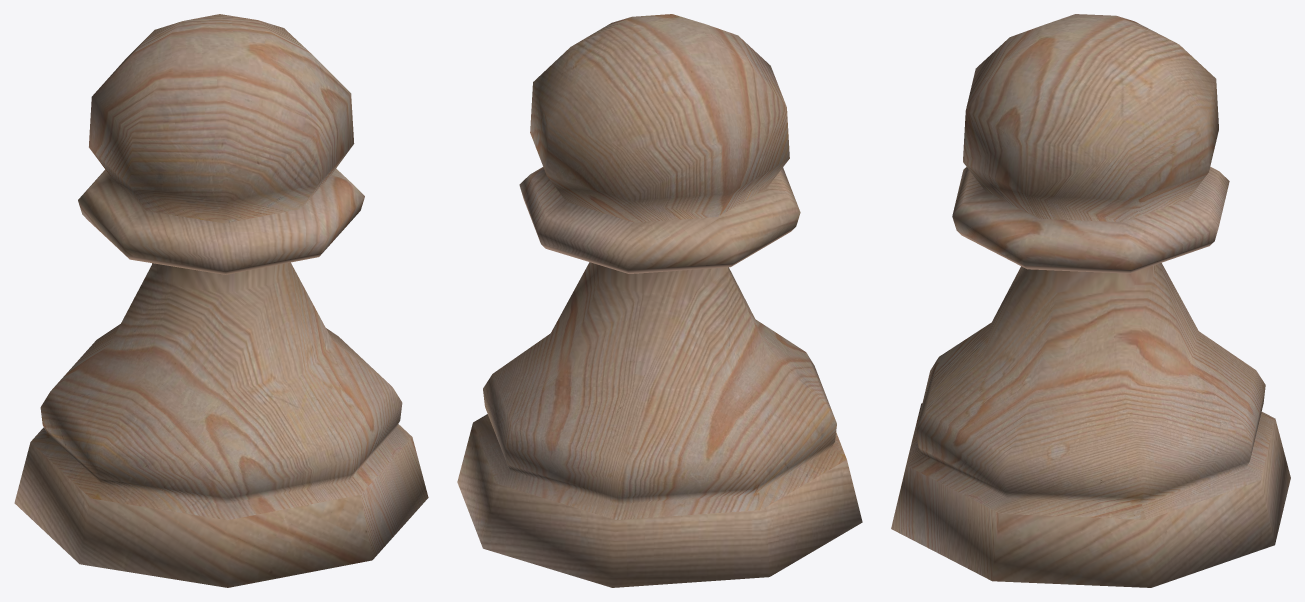
3 renders of one model, left to right at view 1: azimuth 30°, elevation 25°; view 2: azimuth 150°, elevation 25°; view 3: azimuth 270°, elevation 25°, orthographic.
Parts seen in each view (by area): view 1: WhitePawn.005; view 2: WhitePawn.005; view 3: WhitePawn.005.
Boxes of the visible parts, x1,y1,x2,y2 form: WhitePawn.005: (14,14,428,587); WhitePawn.005: (457,14,862,587); WhitePawn.005: (891,14,1290,587).
Size of the model in its own units: 0.0268 by 0.0349 by 0.0268.
Materials: 1 (1 with a texture image).
